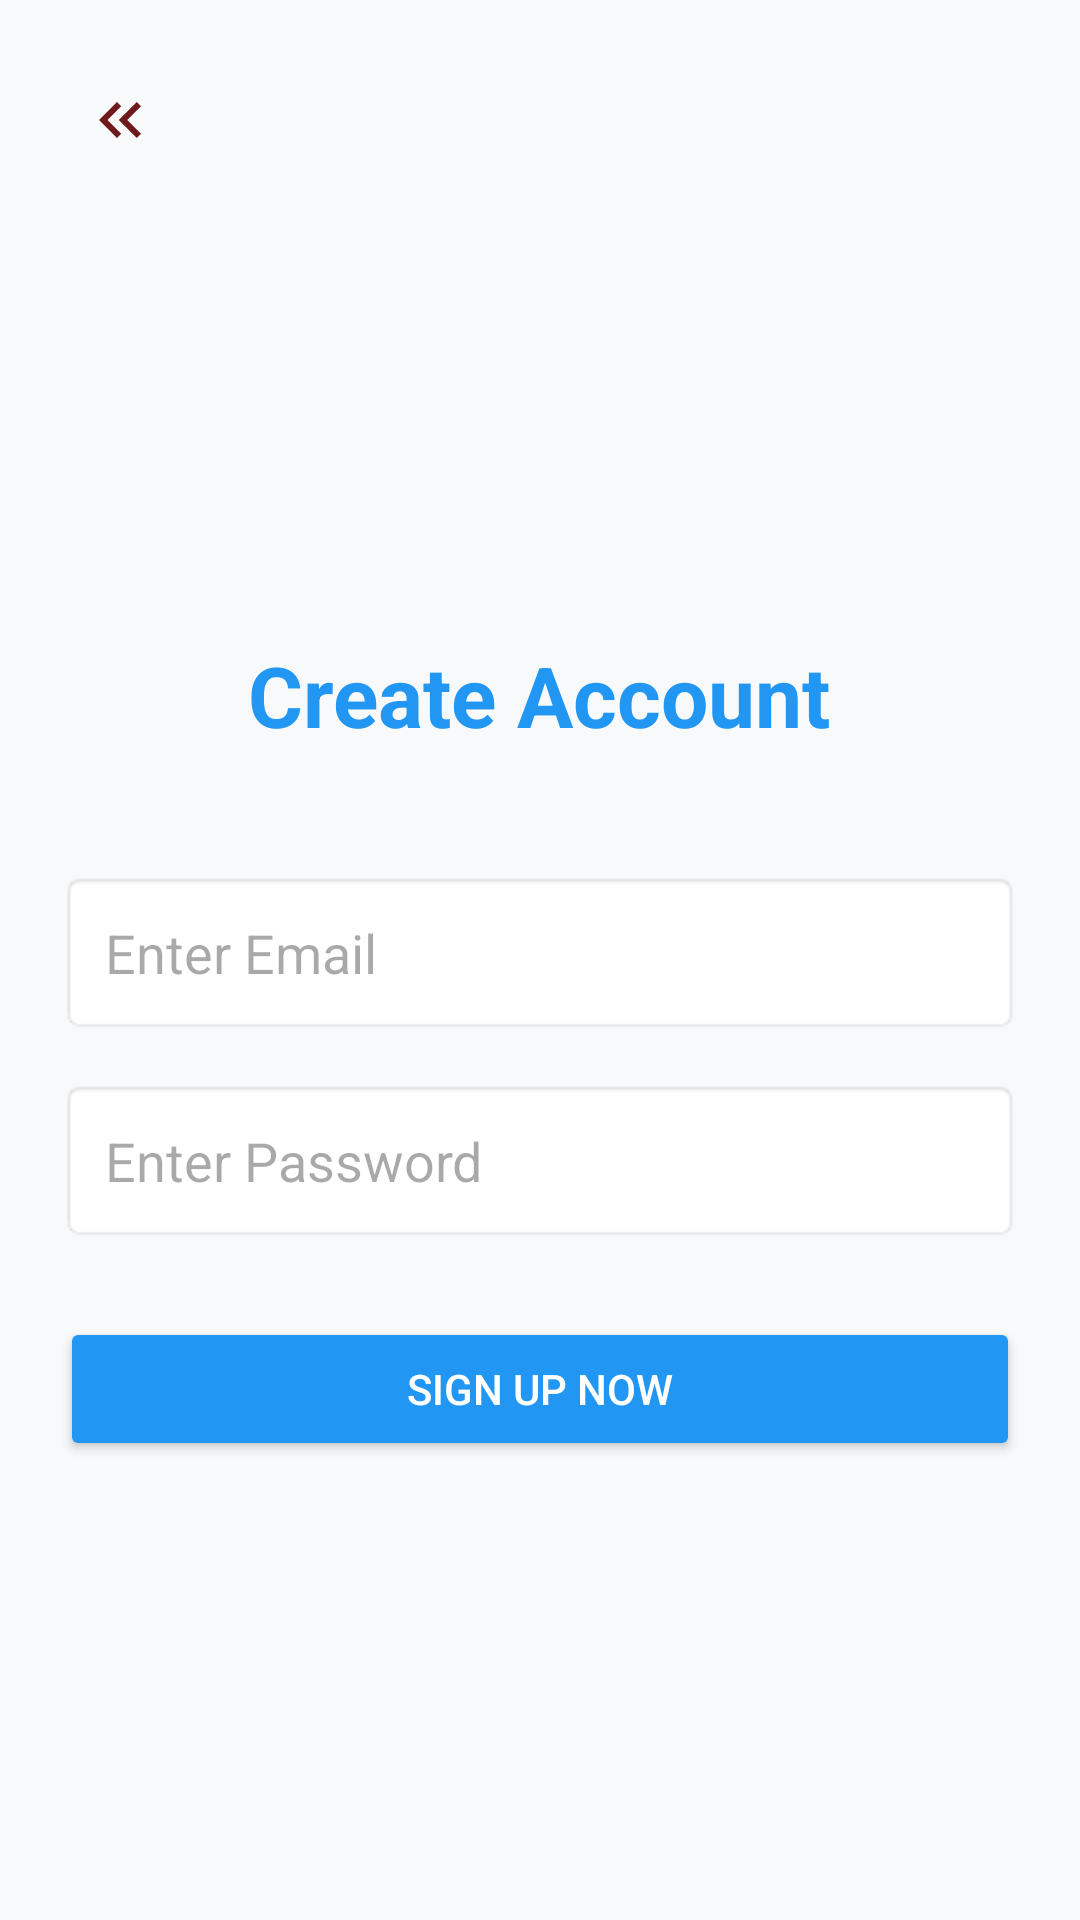

Named icons in this screenshot (1080 × 1920) and their bounding boxes, (left=x1, top=y1, right=x2, bottom=y2):
Back Button: (left=99, top=102, right=141, bottom=138)
